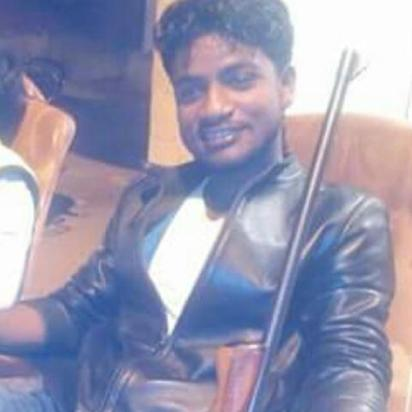Gun: (207, 44, 372, 412)
